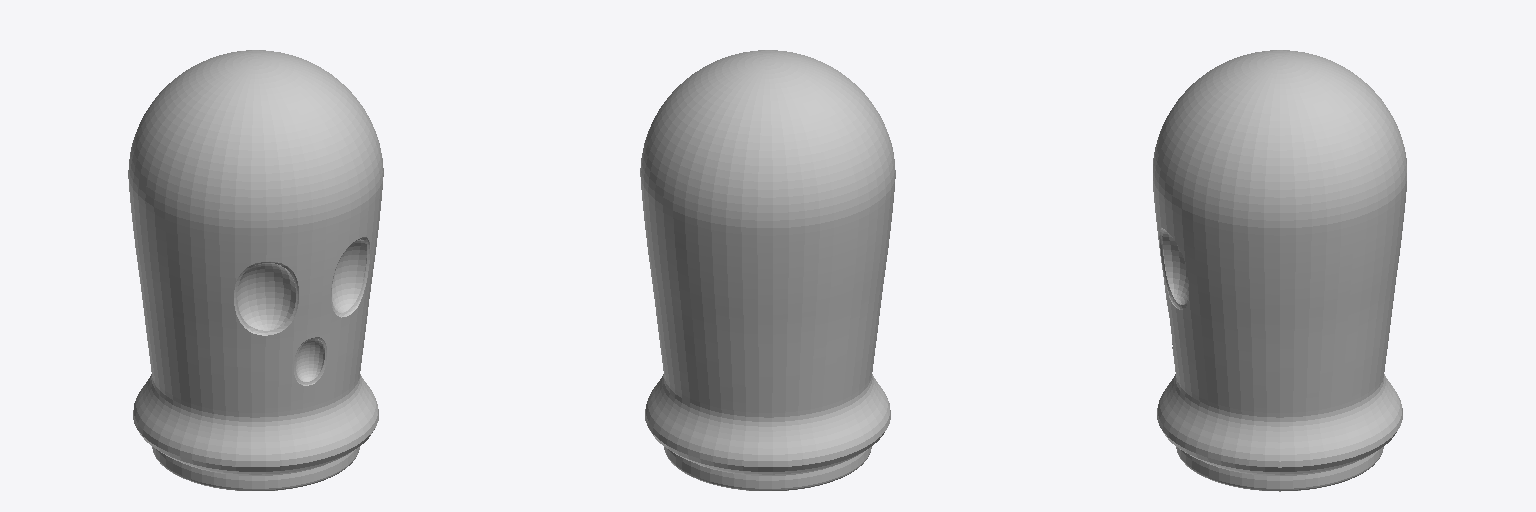
The model's file is BodyPureFace.obj.
3 views of the same model, side by side, from view 1: azimuth 30°, elevation 25°; view 2: azimuth 150°, elevation 25°; view 3: azimuth 270°, elevation 25° (orthographic).
Visible parts, largest first — view 1: BodyPureDark; view 2: BodyPureDark; view 3: BodyPureDark.
Boxes of the visible parts, x1=… form: BodyPureDark: x1=128, y1=50, x2=383, y2=490; BodyPureDark: x1=640, y1=50, x2=895, y2=490; BodyPureDark: x1=1153, y1=50, x2=1406, y2=491.
Bounding box in the file's own units: 36.29 × 60.75 × 36.22.